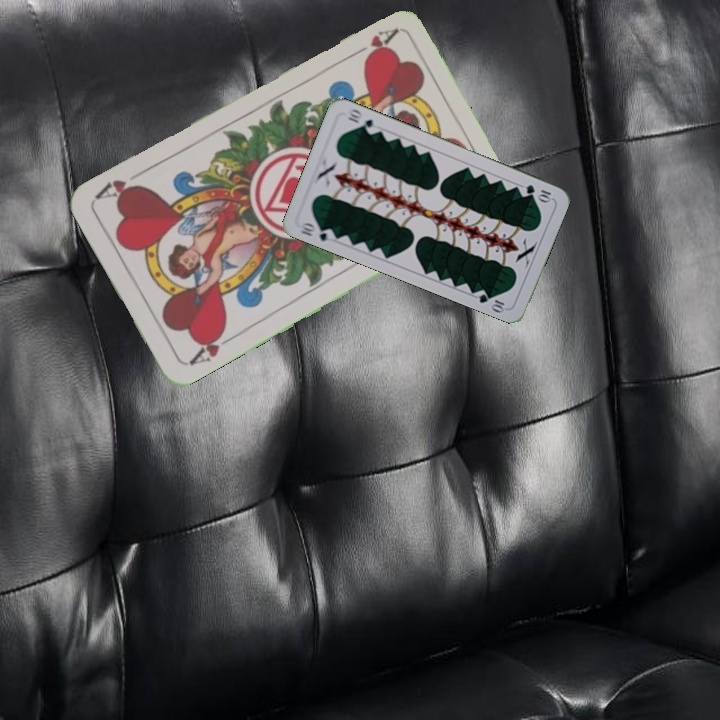G10: (296, 218, 337, 244), (522, 180, 554, 204)
HA: (184, 324, 236, 369), (345, 24, 399, 64)
